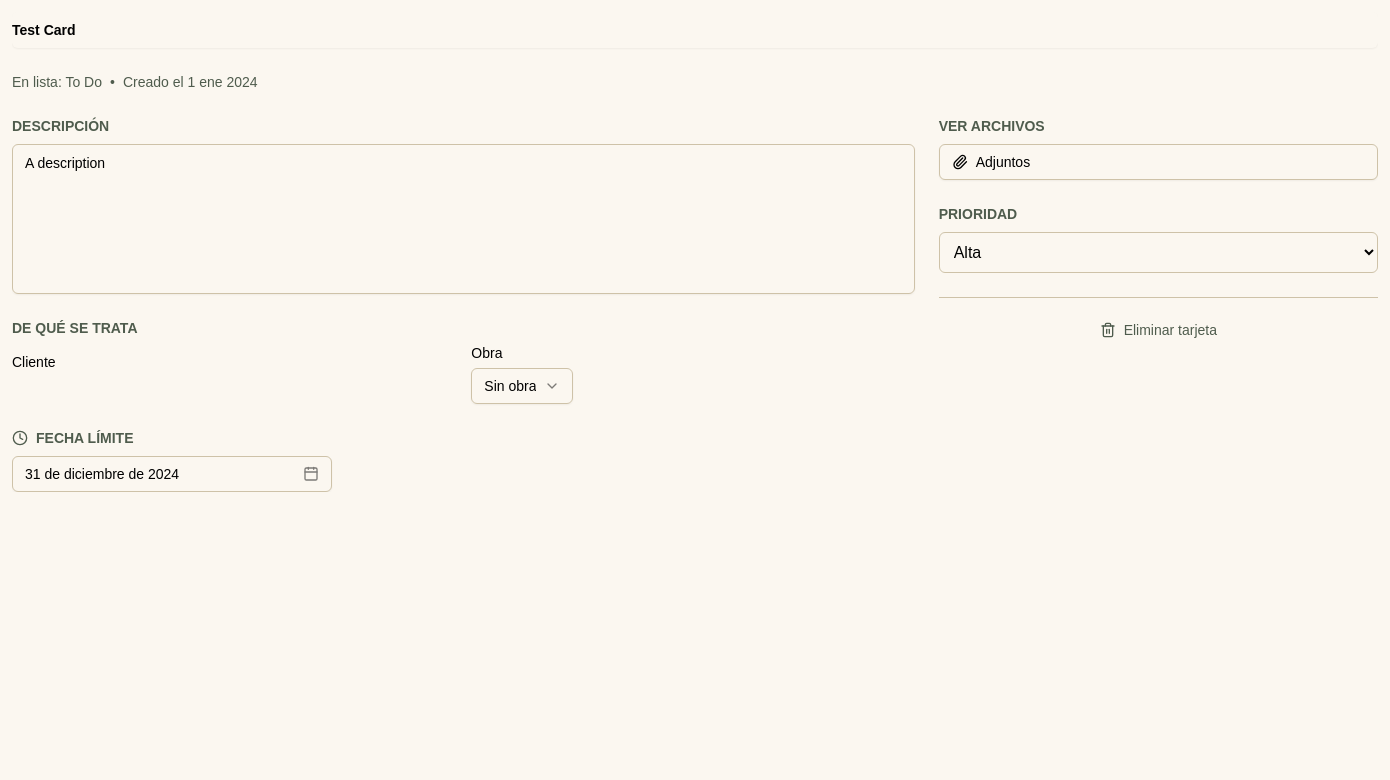
it: CardForm › hides save button after save
The width and height of the screenshot is (1390, 780).
Replace the text in the field showing "Test Card" with "Updated" at {"x": 695, "y": 30}, box [12,12,1378,48]
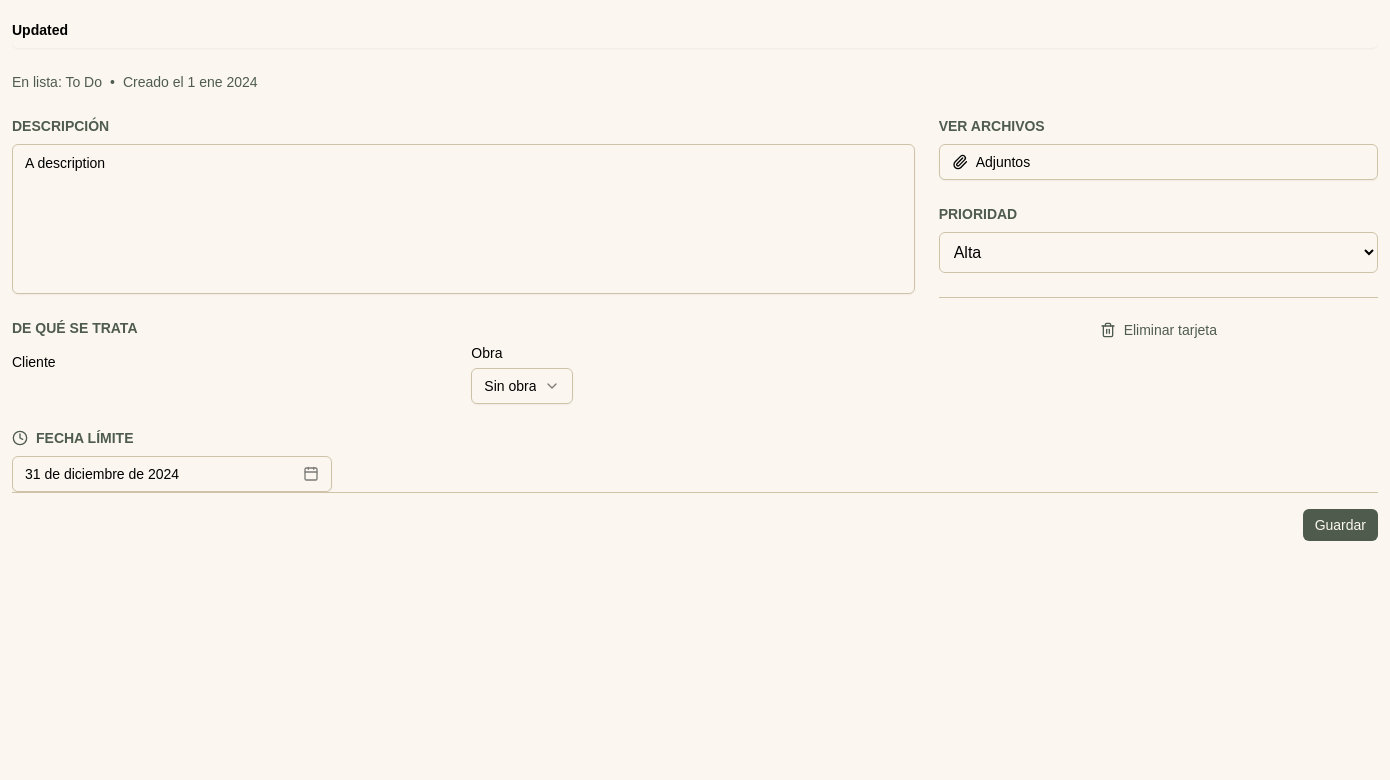
Click the button "Guardar" at {"x": 1340, "y": 525}, box [1303,509,1378,541]
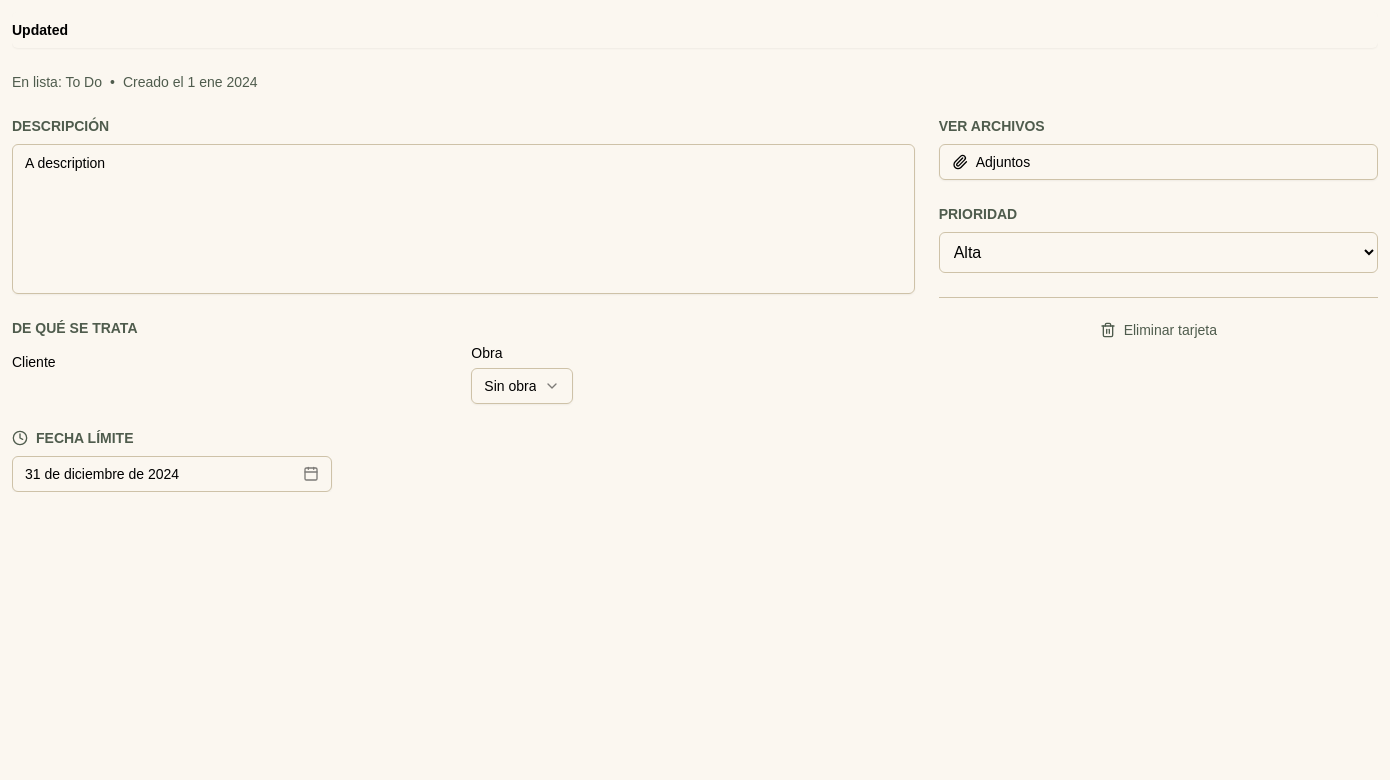
Expected: the button "Guardar" is gone
